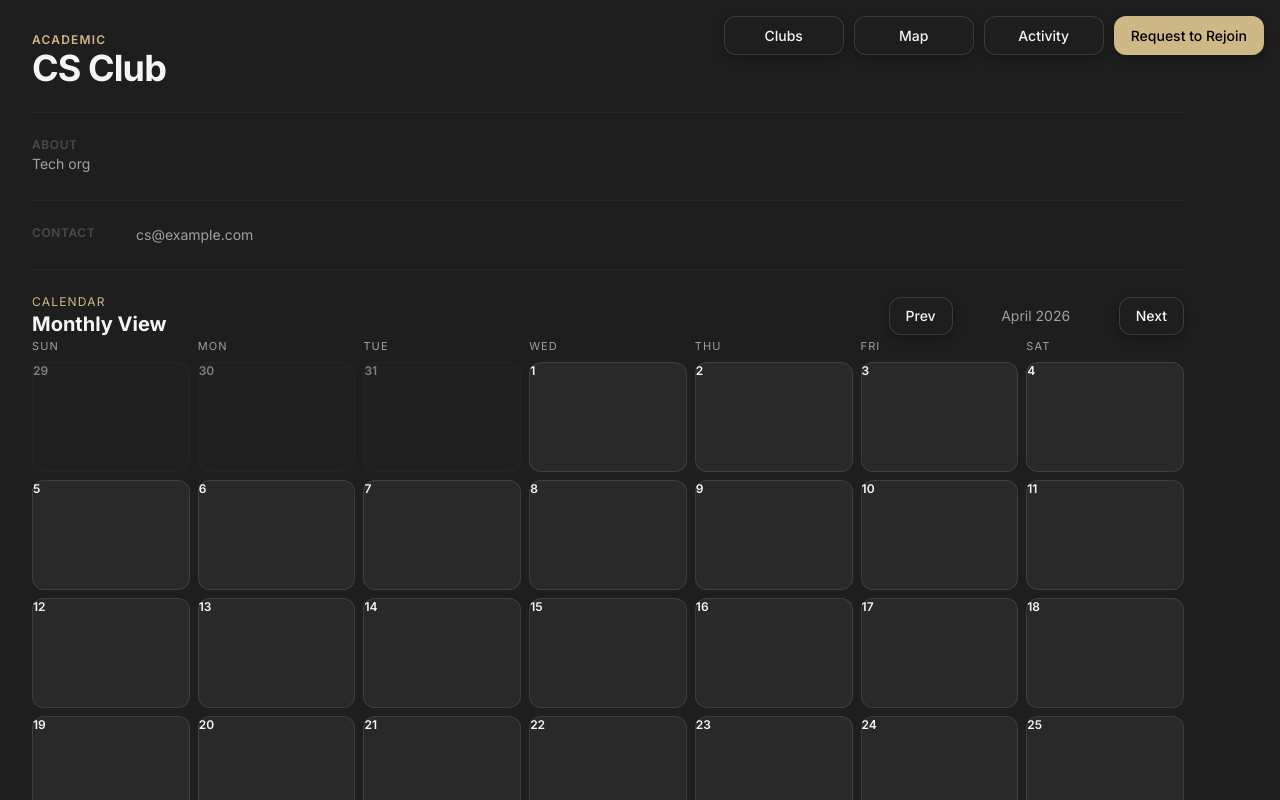
ClubProfile page › allows removed users to request to rejoin from profile
Expected: the heading "CS Club" is shown, [32,46,166,90]
Click the button "Request to Rejoin". click: [1189, 36]
box: [1114,16,1264,55]
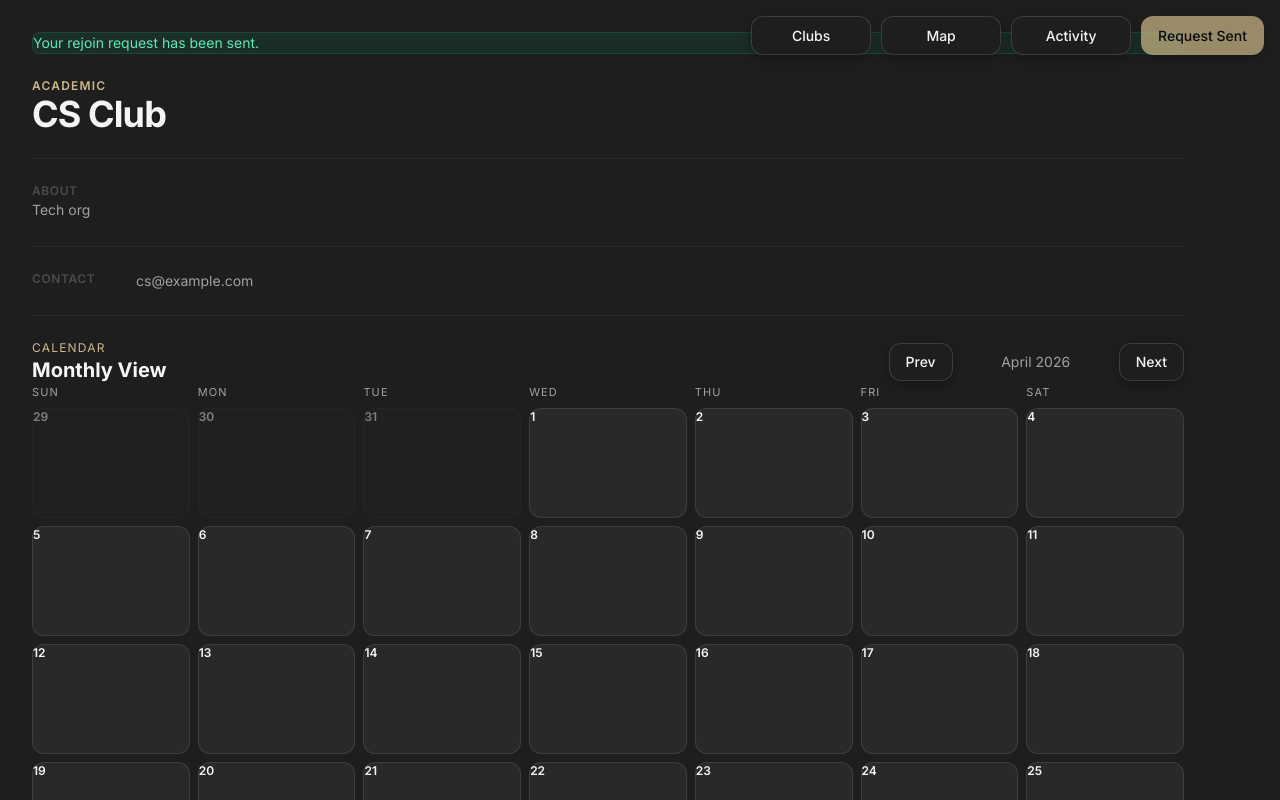
Result: the text "Your rejoin request has been sent." is shown at [32,32,1184,54]
